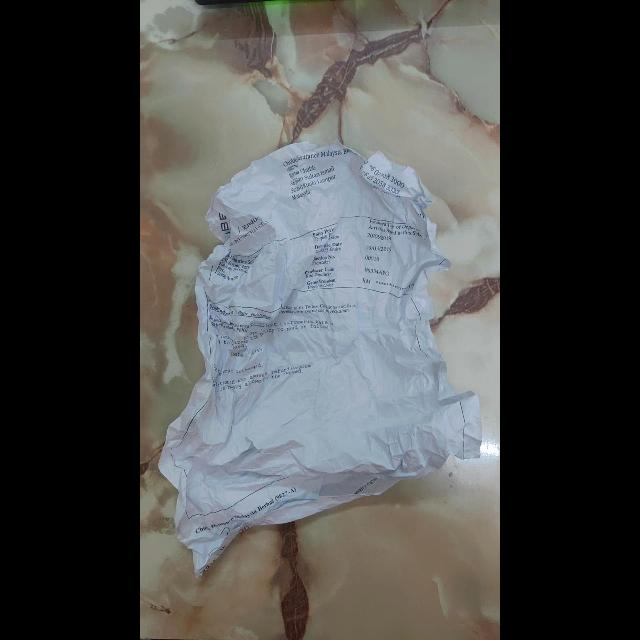papel: (160, 143, 480, 562)
